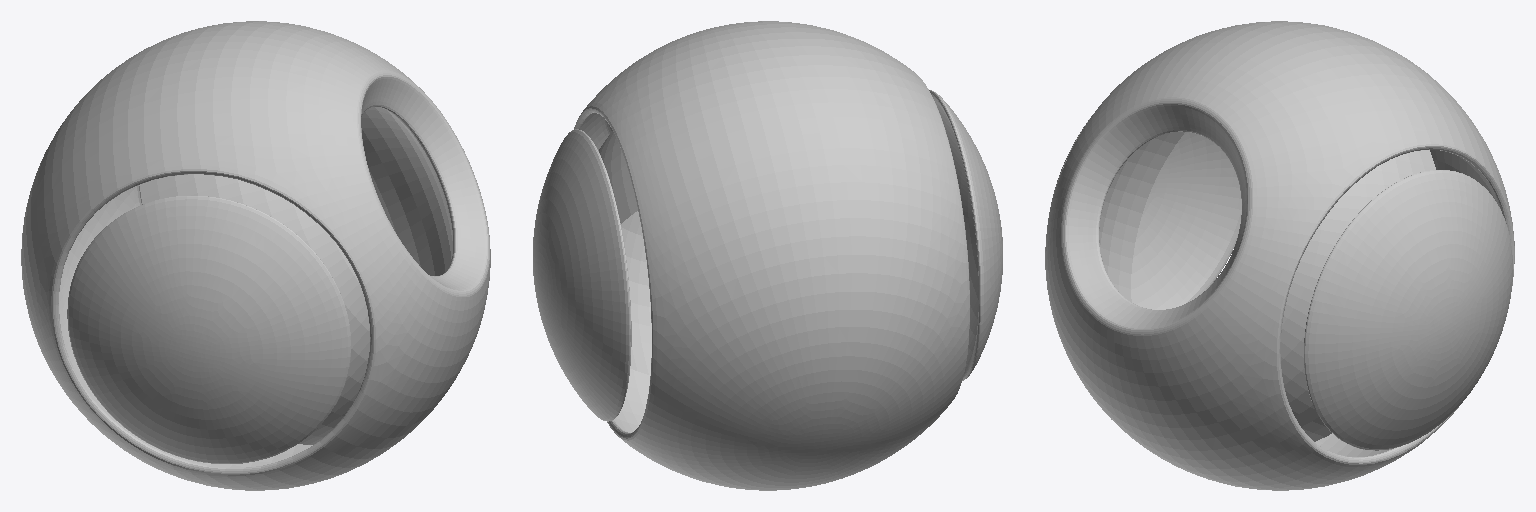
Rendered from shaderball_hd_ball.obj.
3 views of the same model, side by side, from view 1: azimuth 30°, elevation 25°; view 2: azimuth 150°, elevation 25°; view 3: azimuth 270°, elevation 25° (orthographic).
Visible parts, largest first — view 1: ball; view 2: ball; view 3: ball.
Part boxes in pixels (bbox=[...]): ball: bbox=[21, 21, 490, 490]; ball: bbox=[533, 21, 1002, 490]; ball: bbox=[1045, 21, 1514, 490].
Size of the model in its own units: 232 by 231 by 232.